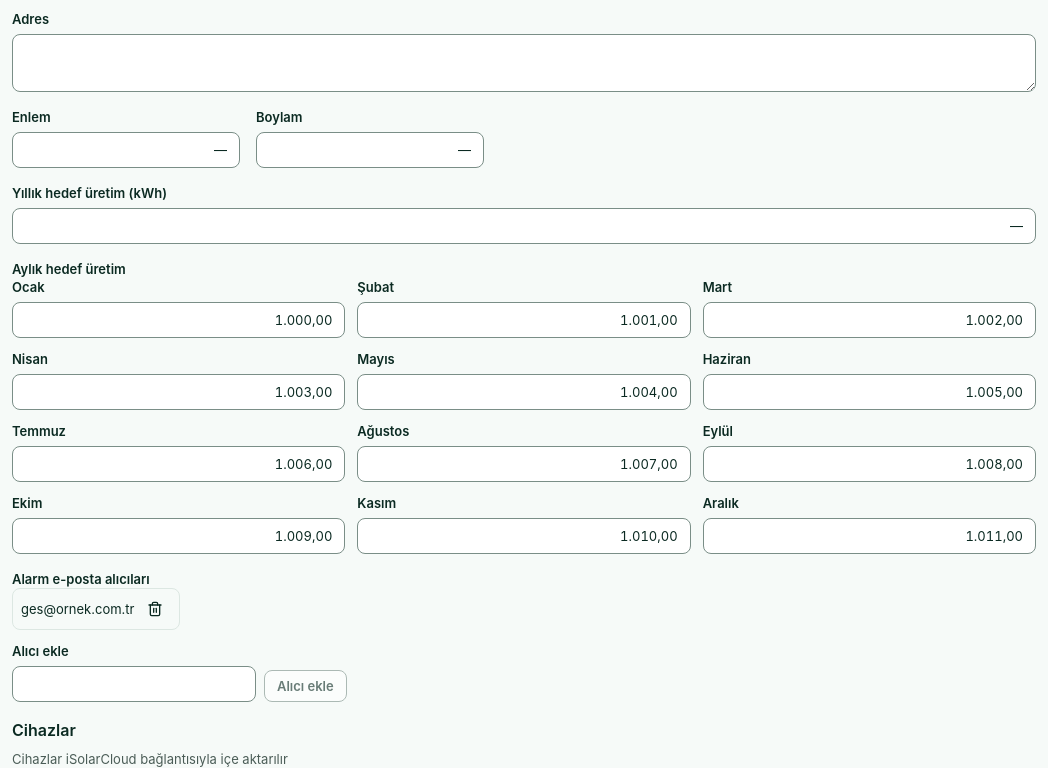
Test: plant form › rejects an alarm recipient that is not an e-mail
The image size is (1048, 768).
(page scrolled)
Step 1. Type "abc" into the field labelled "Alıcı ekle" → (134, 684), box [12, 666, 256, 702]
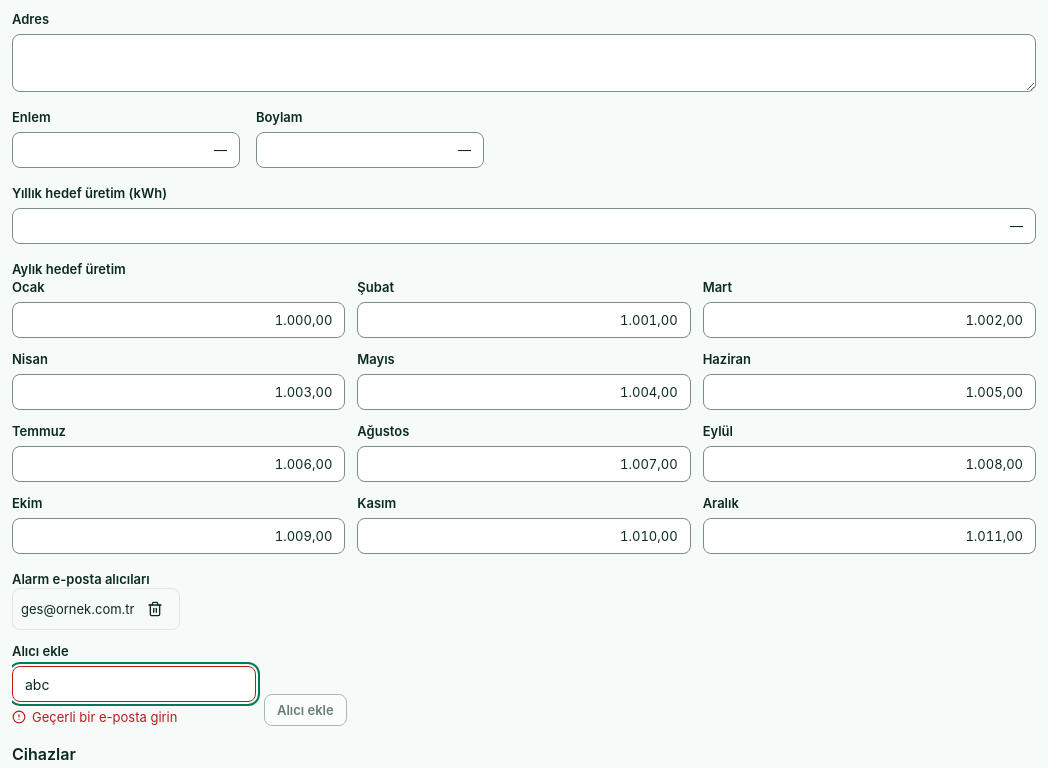
Expected: the button "Alıcı ekle" is disabled, [264, 694, 347, 726]
Expected: the text "Geçerli bir e-posta girin" is shown, [32, 708, 177, 726]
